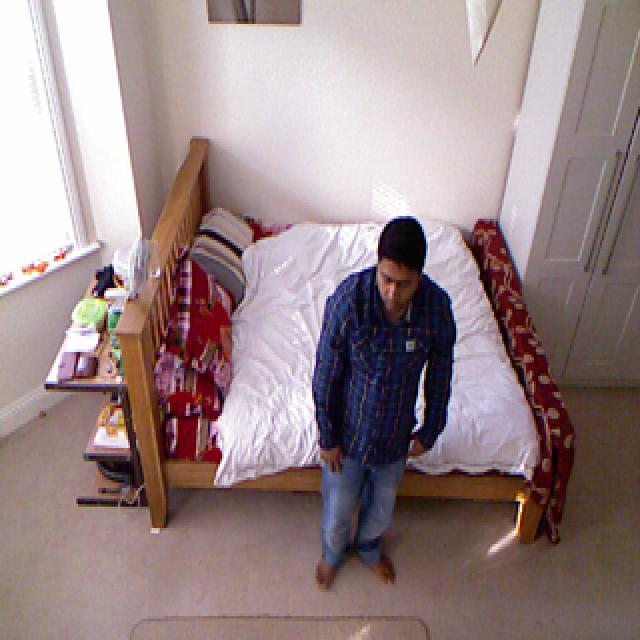standing: (312, 212, 459, 600)
